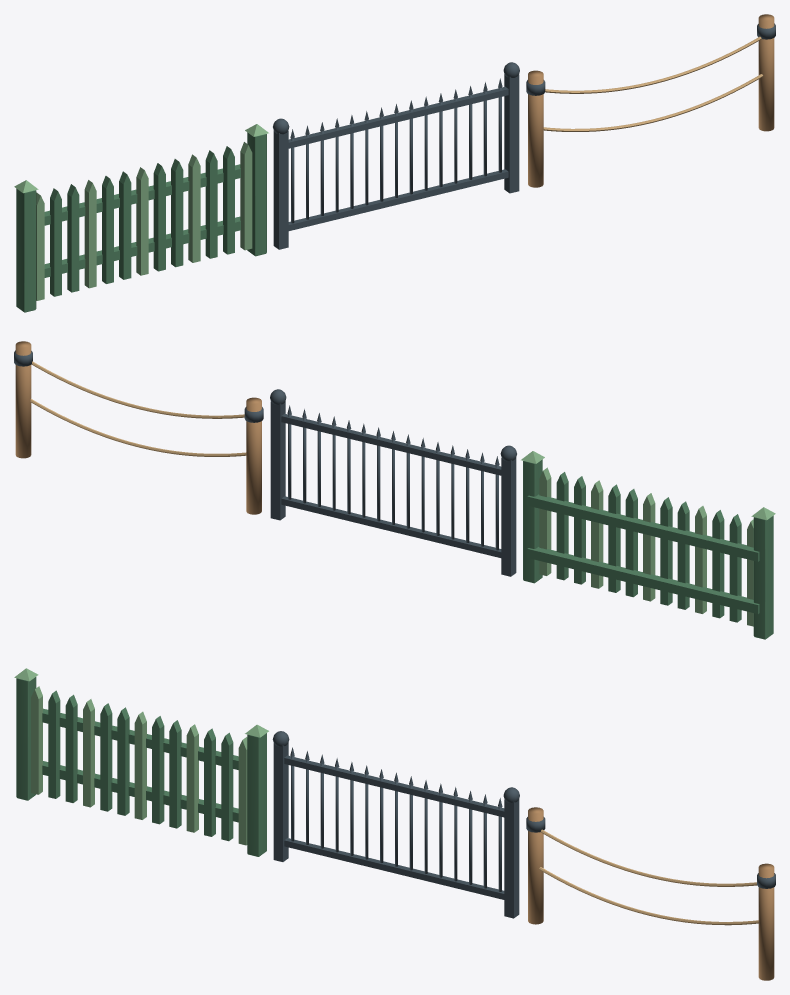
The model's file is fence_set.glb.
3 views of the same model, one above another, from view 1: azimuth 30°, elevation 25°; view 2: azimuth 150°, elevation 25°; view 3: azimuth 330°, elevation 25° (orthographic).
Visible parts, largest first — view 1: Picket fence endpost, Iron horizontal rail, Iron horizontal rail.001, Picket fence endpost.001, Iron railing endpost, Iron railing endpost.001, Rope barrier oak post.001, Rope barrier oak post, Picket_slat_008m.005, Picket_slat_008m.006, Picket_slat_008m.012, Picket_slat_008m.009 (+13 smaller); view 2: Fence horizontal rail, Fence horizontal rail.001, Picket fence endpost, Iron horizontal rail, Iron horizontal rail.001, Iron railing endpost, Picket fence endpost.001, Iron railing endpost.001, Rope barrier oak post.001, Rope barrier oak post, Picket_slat_008m.005, Picket_slat_008m.011 (+13 smaller); view 3: Picket fence endpost.001, Iron horizontal rail, Iron horizontal rail.001, Picket fence endpost, Iron railing endpost.001, Iron railing endpost, Rope barrier oak post.001, Rope barrier oak post, Picket_slat_008m.002, Picket_slat_008m.006, Picket_slat_008m.009, Picket_slat_008m.001 (+13 smaller).
Boxes of the visible parts, box(x1,y1,x2,y2) form: Picket fence endpost: box(16, 188, 36, 312); Iron horizontal rail: box(288, 169, 508, 230); Iron horizontal rail.001: box(288, 86, 508, 148); Picket fence endpost.001: box(247, 132, 266, 256); Iron railing endpost: box(273, 130, 288, 249); Iron railing endpost.001: box(504, 74, 519, 193); Rope barrier oak post.001: box(758, 14, 774, 131); Rope barrier oak post: box(528, 70, 543, 187); Picket_slat_008m.005: box(119, 171, 131, 279); Picket_slat_008m.006: box(136, 167, 148, 275); Picket_slat_008m.012: box(240, 142, 252, 250); Picket_slat_008m.009: box(188, 154, 200, 262); Fence horizontal rail: box(527, 547, 759, 613); Fence horizontal rail.001: box(527, 494, 759, 561); Picket fence endpost: box(753, 515, 773, 639); Iron horizontal rail: box(281, 496, 501, 557); Iron horizontal rail.001: box(281, 413, 501, 475); Iron railing endpost: box(501, 457, 516, 576); Picket fence endpost.001: box(523, 459, 542, 583); Iron railing endpost.001: box(270, 401, 285, 520); Rope barrier oak post.001: box(15, 341, 31, 458); Rope barrier oak post: box(246, 397, 261, 514); Picket_slat_008m.005: box(660, 497, 672, 605); Picket_slat_008m.011: box(556, 472, 568, 580); Picket fence endpost.001: box(247, 733, 266, 856); Iron horizontal rail: box(284, 838, 504, 899); Iron horizontal rail.001: box(284, 755, 504, 817); Picket fence endpost: box(16, 677, 36, 800); Iron railing endpost.001: box(504, 799, 519, 918); Iron railing endpost: box(273, 742, 288, 861); Rope barrier oak post.001: box(758, 863, 774, 980); Rope barrier oak post: box(528, 807, 543, 924); Picket_slat_008m.002: box(65, 694, 77, 802); Picket_slat_008m.006: box(134, 711, 146, 819); Picket_slat_008m.009: box(186, 724, 198, 832); Picket_slat_008m.001: box(48, 690, 60, 798).
Size of the model in its own units: 7.87 by 1.28 by 0.185.
